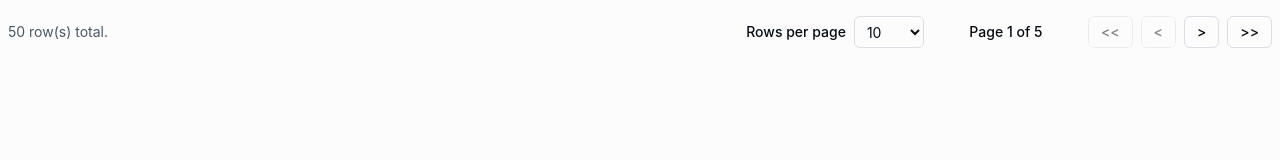
TablePagination › button disabled states › enables all buttons on middle page
# Navigate to middle page
Click the button ">" at [1202, 32], box [1184,16,1219,48]
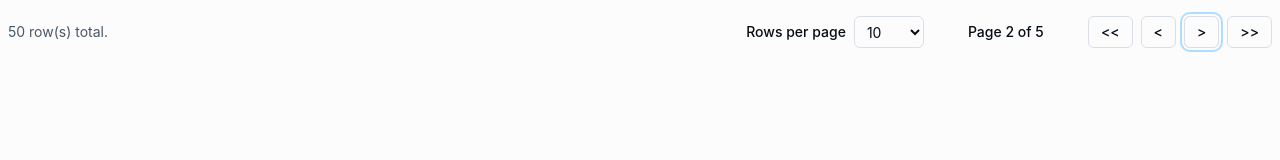
Click the button ">" at [1202, 32], box [1184,16,1219,48]
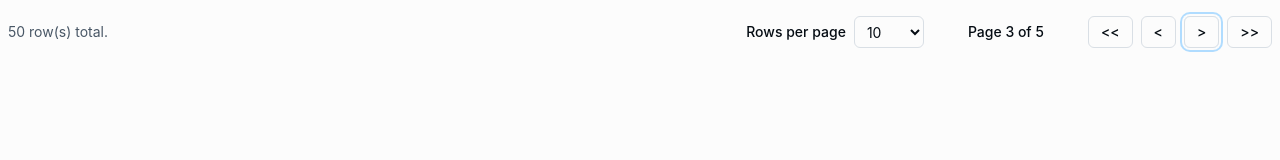
Check: the button "<" is enabled, box [1141,16,1176,48]
Check: the button "<<" is enabled, box [1088,16,1133,48]
Check: the text "Page 3 of 5" is shown, box [968,23,1044,40]
